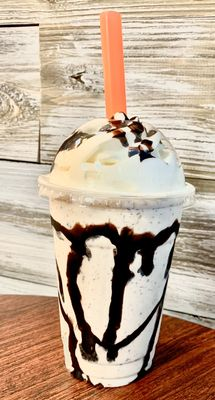pizza: (36, 111, 194, 389)
